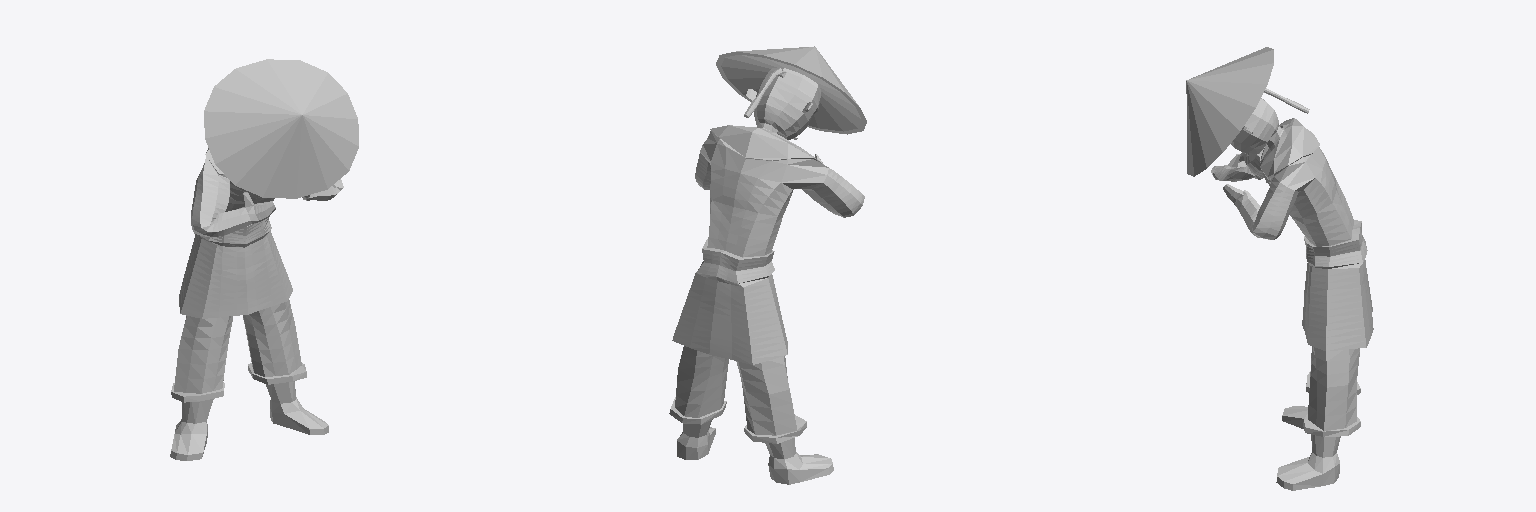
File: ChinoCelebracion_000255.obj
3 views of the same model, side by side, from view 1: azimuth 30°, elevation 25°; view 2: azimuth 150°, elevation 25°; view 3: azimuth 270°, elevation 25° (orthographic).
Parts seen in each view (by area): view 1: Chino_ChinoH; view 2: Chino_ChinoH; view 3: Chino_ChinoH.
Boxes of the visible parts, x1,y1,x2,y2 form: Chino_ChinoH: [170, 59, 358, 460]; Chino_ChinoH: [669, 46, 866, 484]; Chino_ChinoH: [1186, 47, 1373, 490].
Bounding box in the file's own units: 3.24 × 7.8 × 3.36.